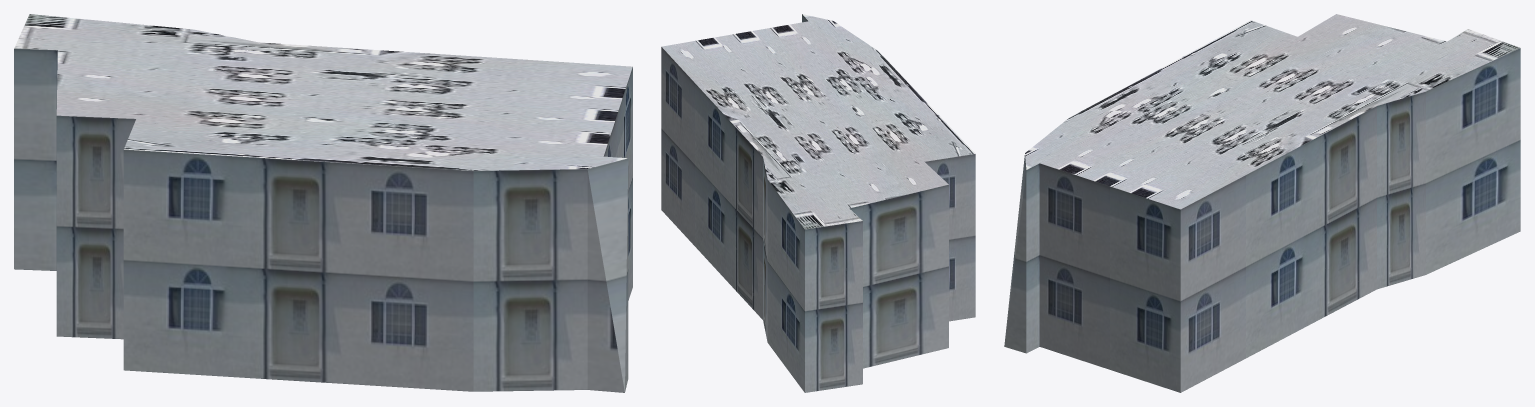
The model's file is ResTex__4875.fbx.
3 renders of one model, left to right at view 1: azimuth 30°, elevation 25°; view 2: azimuth 150°, elevation 25°; view 3: azimuth 270°, elevation 25°, orthographic. The views are drawn at different scales.
Visible parts, largest first — view 1: CityEngineMaterial_17_m, CityEngineMaterial_m; view 2: CityEngineMaterial_17_m, CityEngineMaterial_m; view 3: CityEngineMaterial_17_m, CityEngineMaterial_m.
Boxes of the visible parts, box(x1,y1,x2,y2) form: CityEngineMaterial_17_m: box(14, 48, 632, 392); CityEngineMaterial_m: box(14, 14, 632, 170); CityEngineMaterial_17_m: box(661, 14, 975, 392); CityEngineMaterial_m: box(662, 14, 975, 229); CityEngineMaterial_17_m: box(1004, 48, 1520, 392); CityEngineMaterial_m: box(1025, 14, 1519, 209).
Size of the model in its own units: 13.71 by 6 by 15.3.
Materials: 2 (2 with a texture image).
